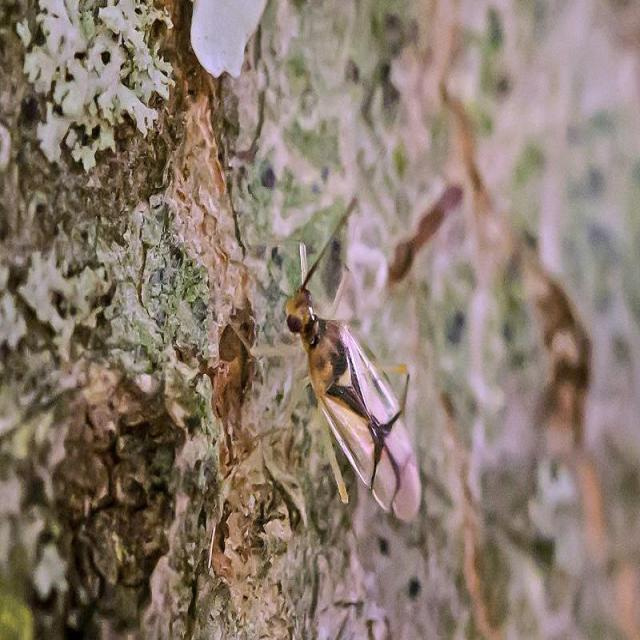Miridae-Adult-: (223, 177, 436, 526)
